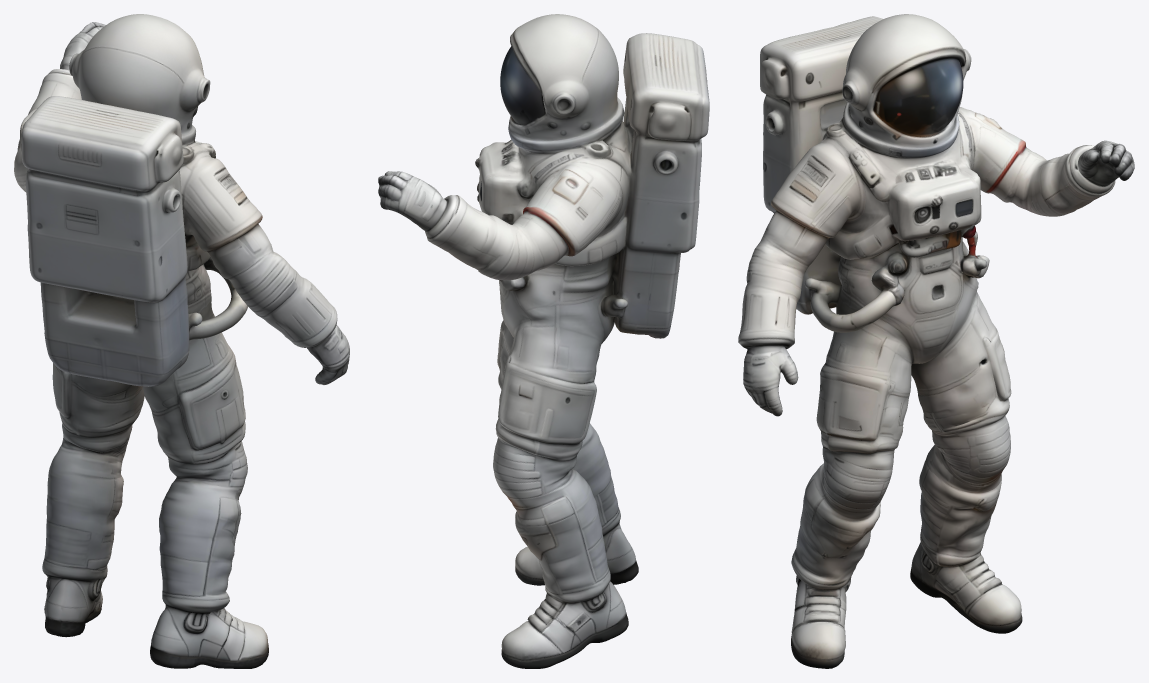
File: astronaut.glb
3 views of the same model, side by side, from view 1: azimuth 30°, elevation 25°; view 2: azimuth 150°, elevation 25°; view 3: azimuth 270°, elevation 25° (orthographic). The views are drawn at different scales.
Visible parts, largest first — view 1: tripo_node_0a35b384; view 2: tripo_node_0a35b384; view 3: tripo_node_0a35b384.
Part boxes in pixels (x1,y1,x2,y2): tripo_node_0a35b384: (14, 14, 349, 668); tripo_node_0a35b384: (378, 14, 709, 668); tripo_node_0a35b384: (738, 14, 1134, 668).
Bounding box in the file's own units: 0.4531 × 0.9792 × 0.5728.
1 material, 1 textured.
